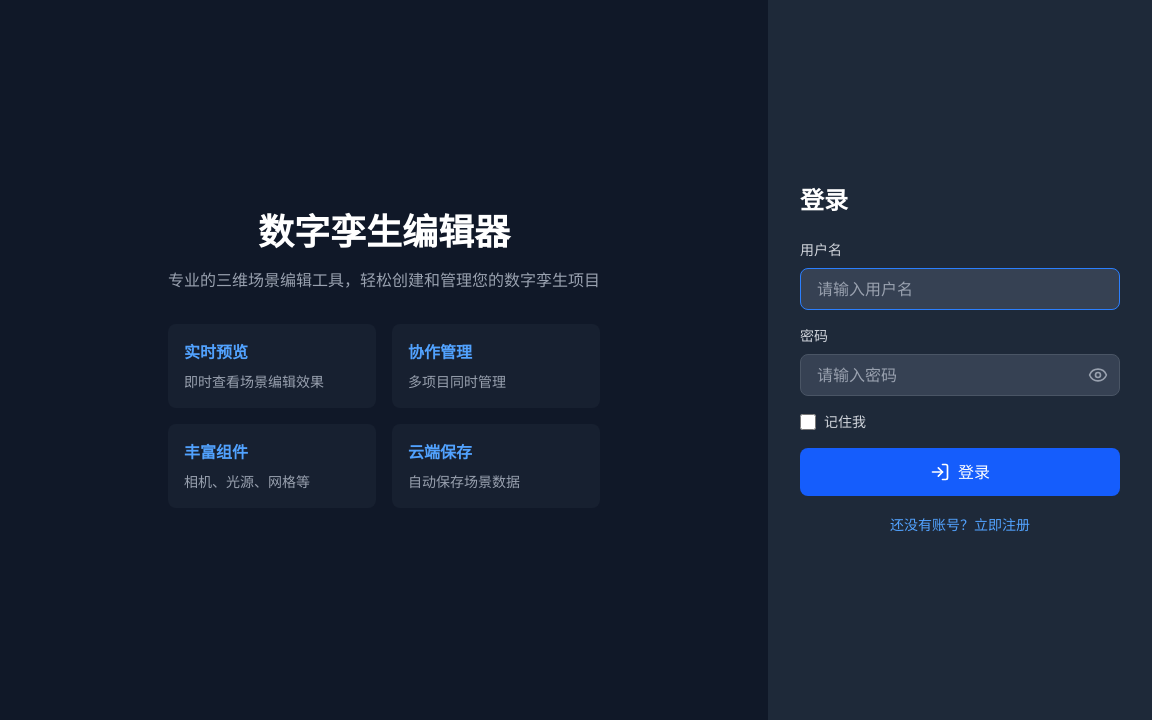
Scenario: LoginPage › should open register dialog
Click the button "还没有账号？立即注册" at (960, 525), box [890,515,1030,535]
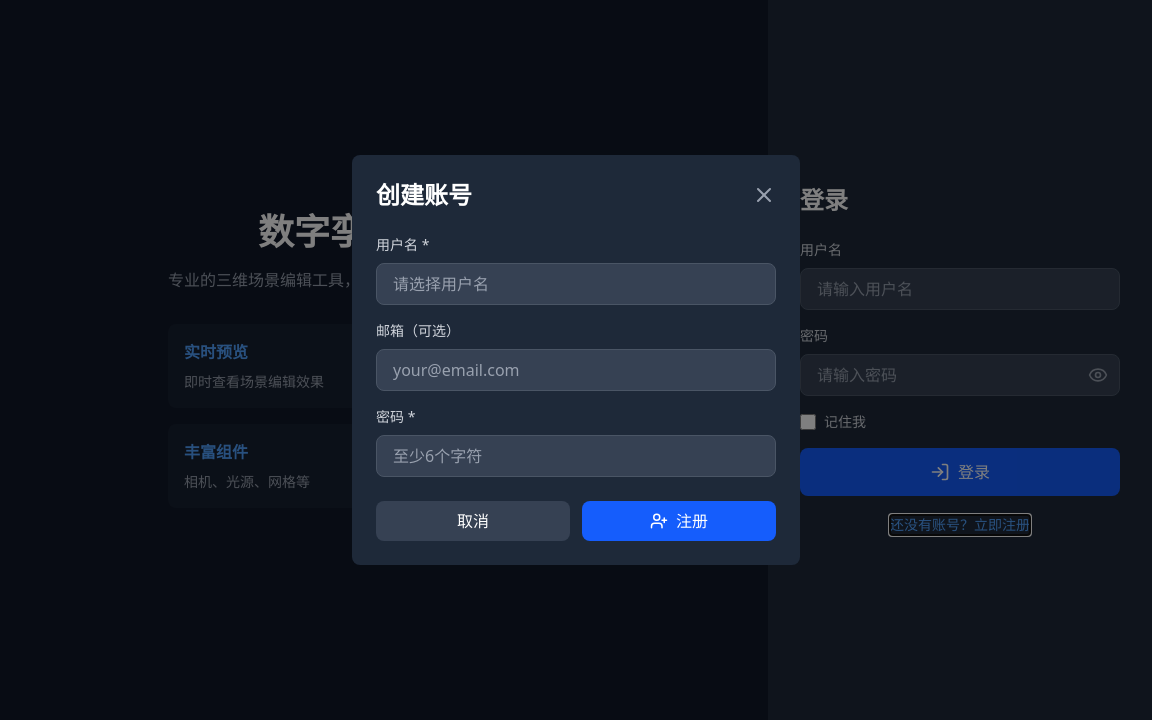
Expected: the heading "创建账号" is shown, [376,179,472,211]
